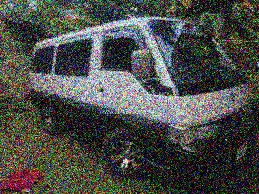van: (29, 20, 258, 185)
